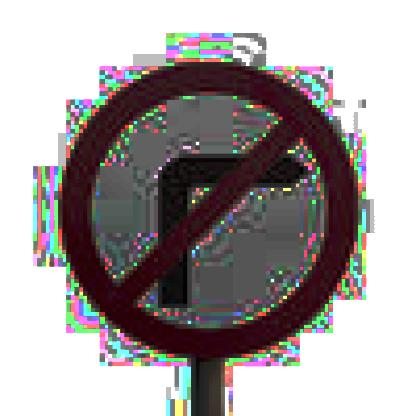No right turn: (69, 53, 356, 365)
